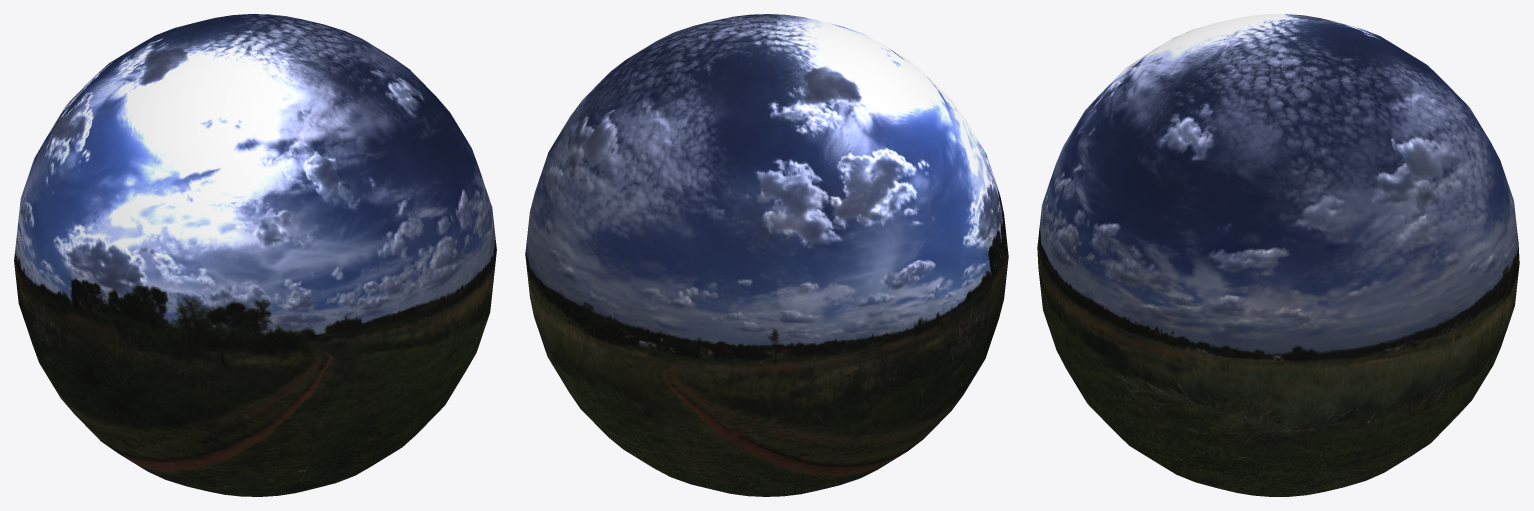
Rendered from SkySphere.glb.
3 views of the same model, side by side, from view 1: azimuth 30°, elevation 25°; view 2: azimuth 150°, elevation 25°; view 3: azimuth 270°, elevation 25° (orthographic).
Visible parts, largest first — view 1: SkyBox; view 2: SkyBox; view 3: SkyBox.
Part boxes in pixels (bbox=[...]): SkyBox: bbox=[14, 14, 496, 496]; SkyBox: bbox=[525, 14, 1008, 496]; SkyBox: bbox=[1037, 14, 1519, 496].
Size of the model in its own units: 1994 by 2000 by 1994.
1 material, 1 textured.
